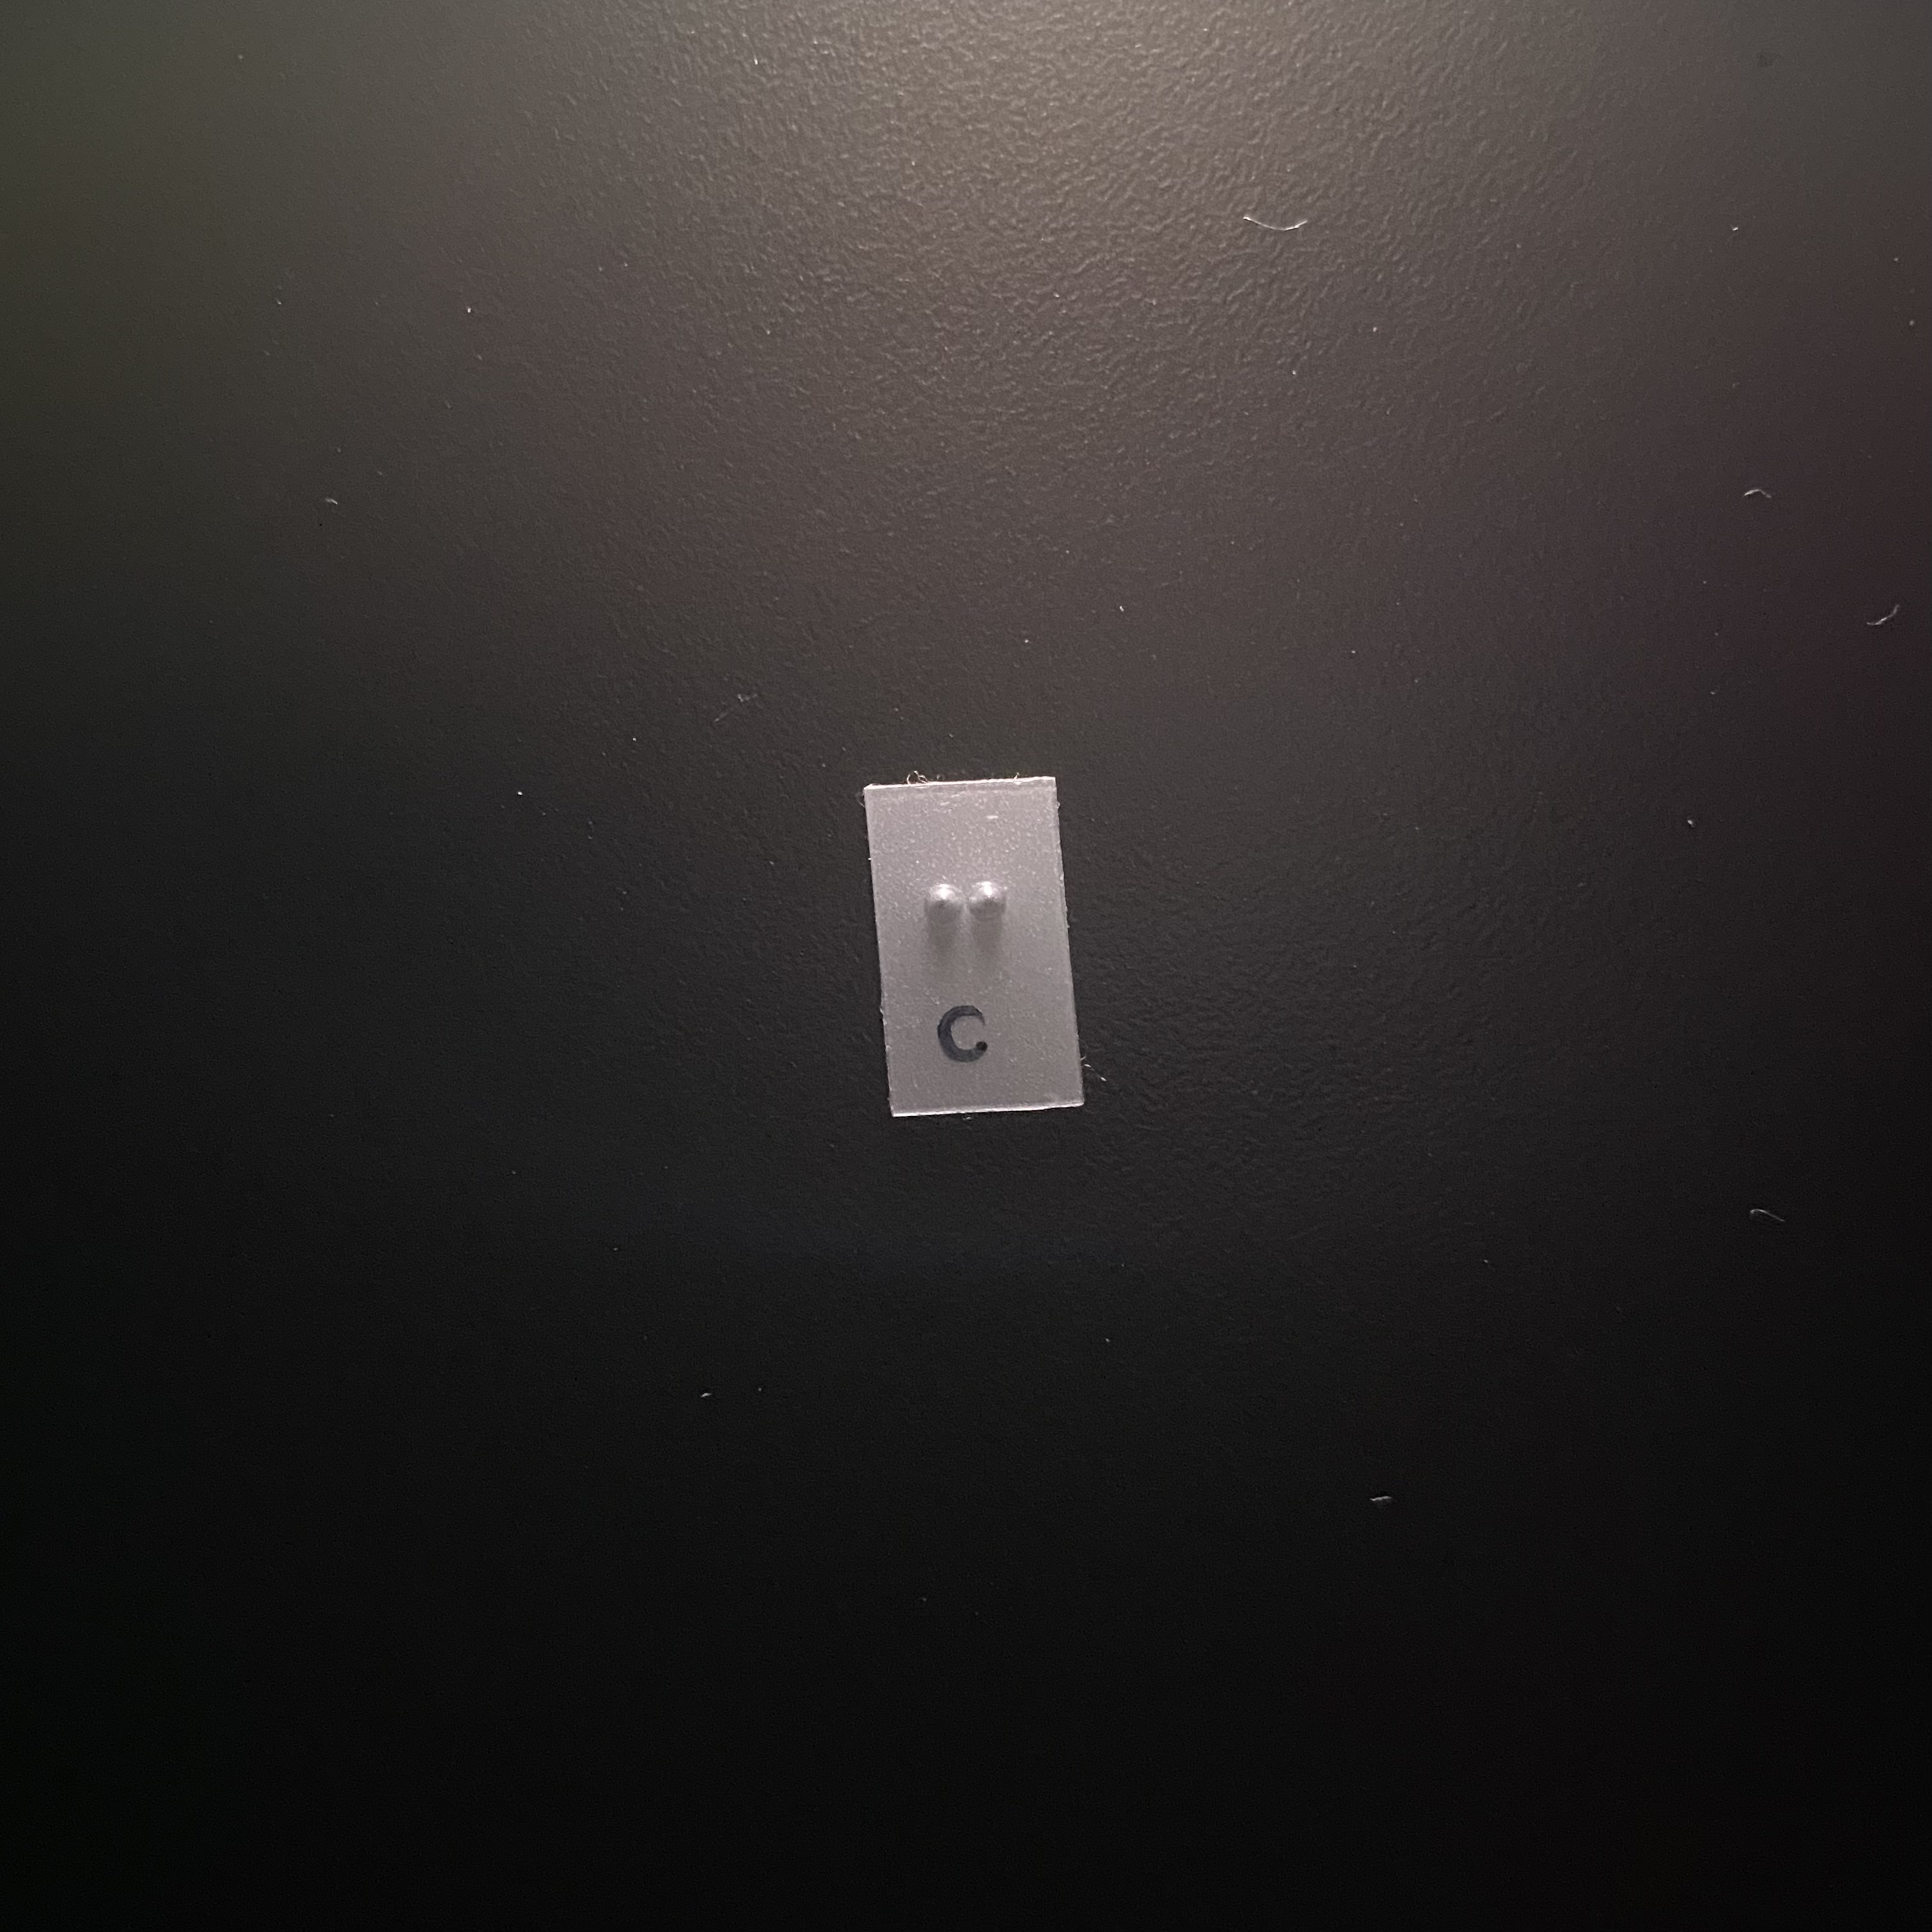c: (913, 861, 1030, 1051)
